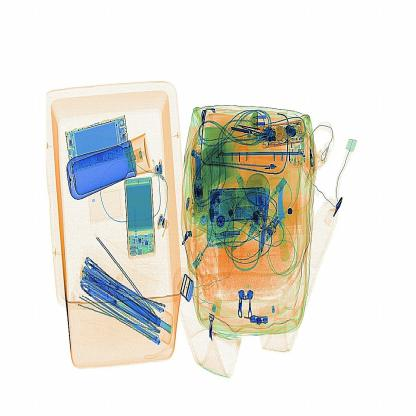wrench: (271, 168, 292, 264)
